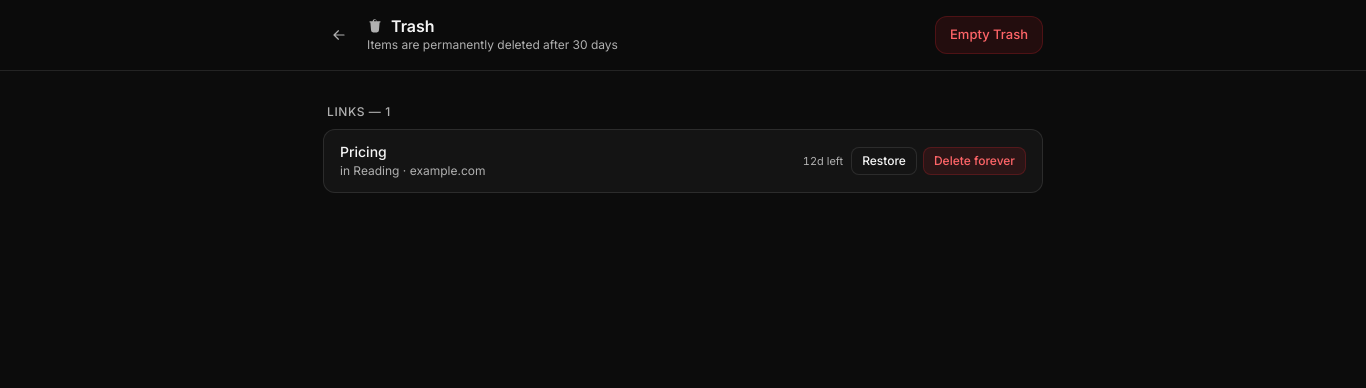
it: Trash load errors › keeps the list when restore fails and does not reload it
Expected: the text "Pricing" is shown, [340,143,387,160]
What coordinates should you click on to do the following:
click the button "Restore "
I would click on:
 (884, 161)
Its box is [851,147,917,175].
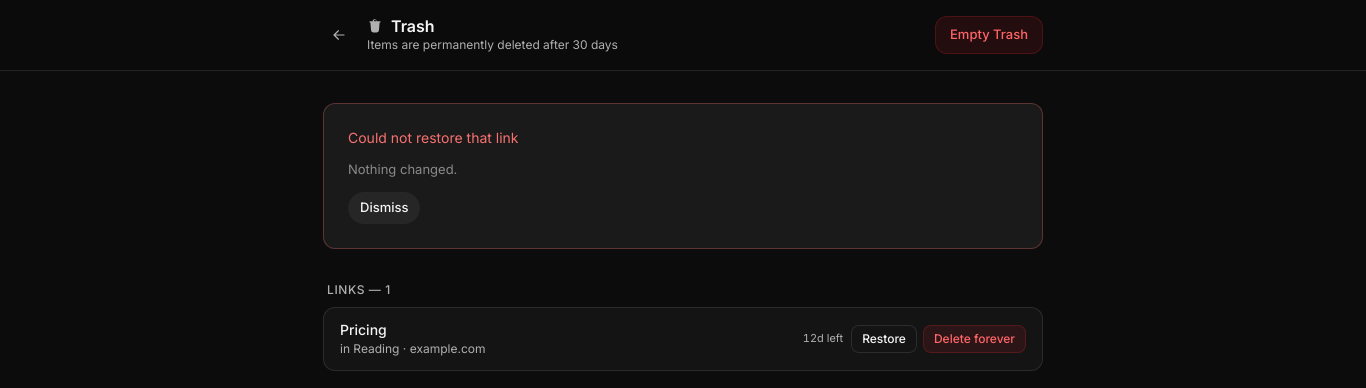
Expected: the text "Pricing" is shown, [340,320,387,338]
Result: the message shows "Could not restore that link" at [348,129,518,146]
Result: the text "Nothing changed." is shown at [348,160,457,180]
What coordinates should you click on to do the following:
click the button "Dismiss"
I would click on:
 (384, 208)
Its box is [348,192,420,224].
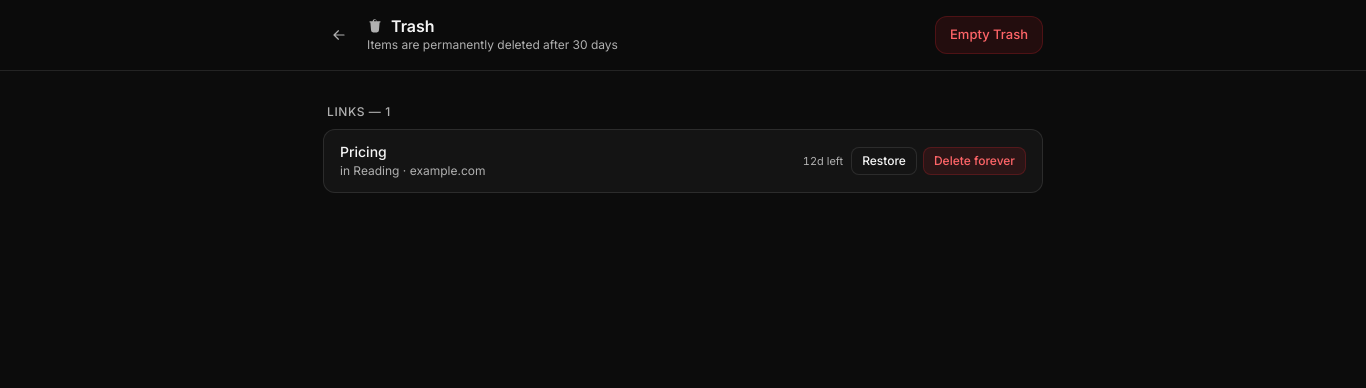
Expected: the text "Pricing" is shown, [340,143,387,160]
Result: the message "Could not restore that link Nothing changed. Dismiss" is gone
